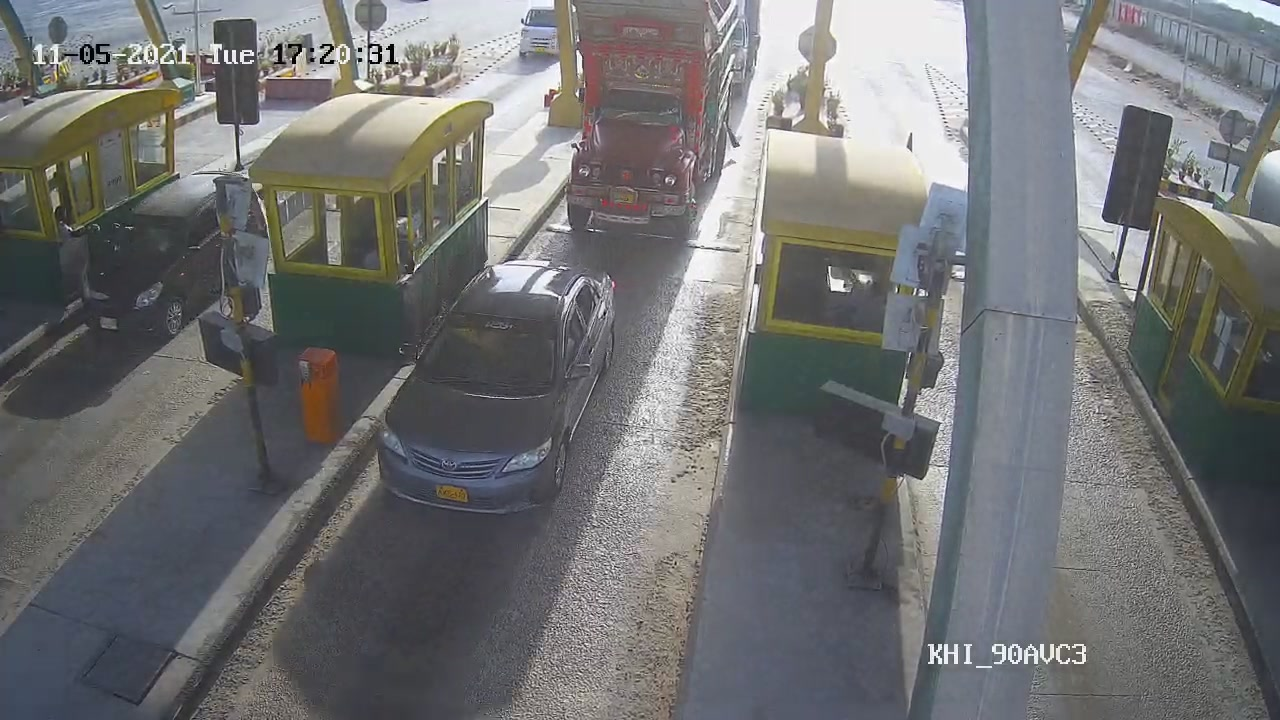F1: (368, 255, 639, 518)
F5: (556, 1, 734, 236)
